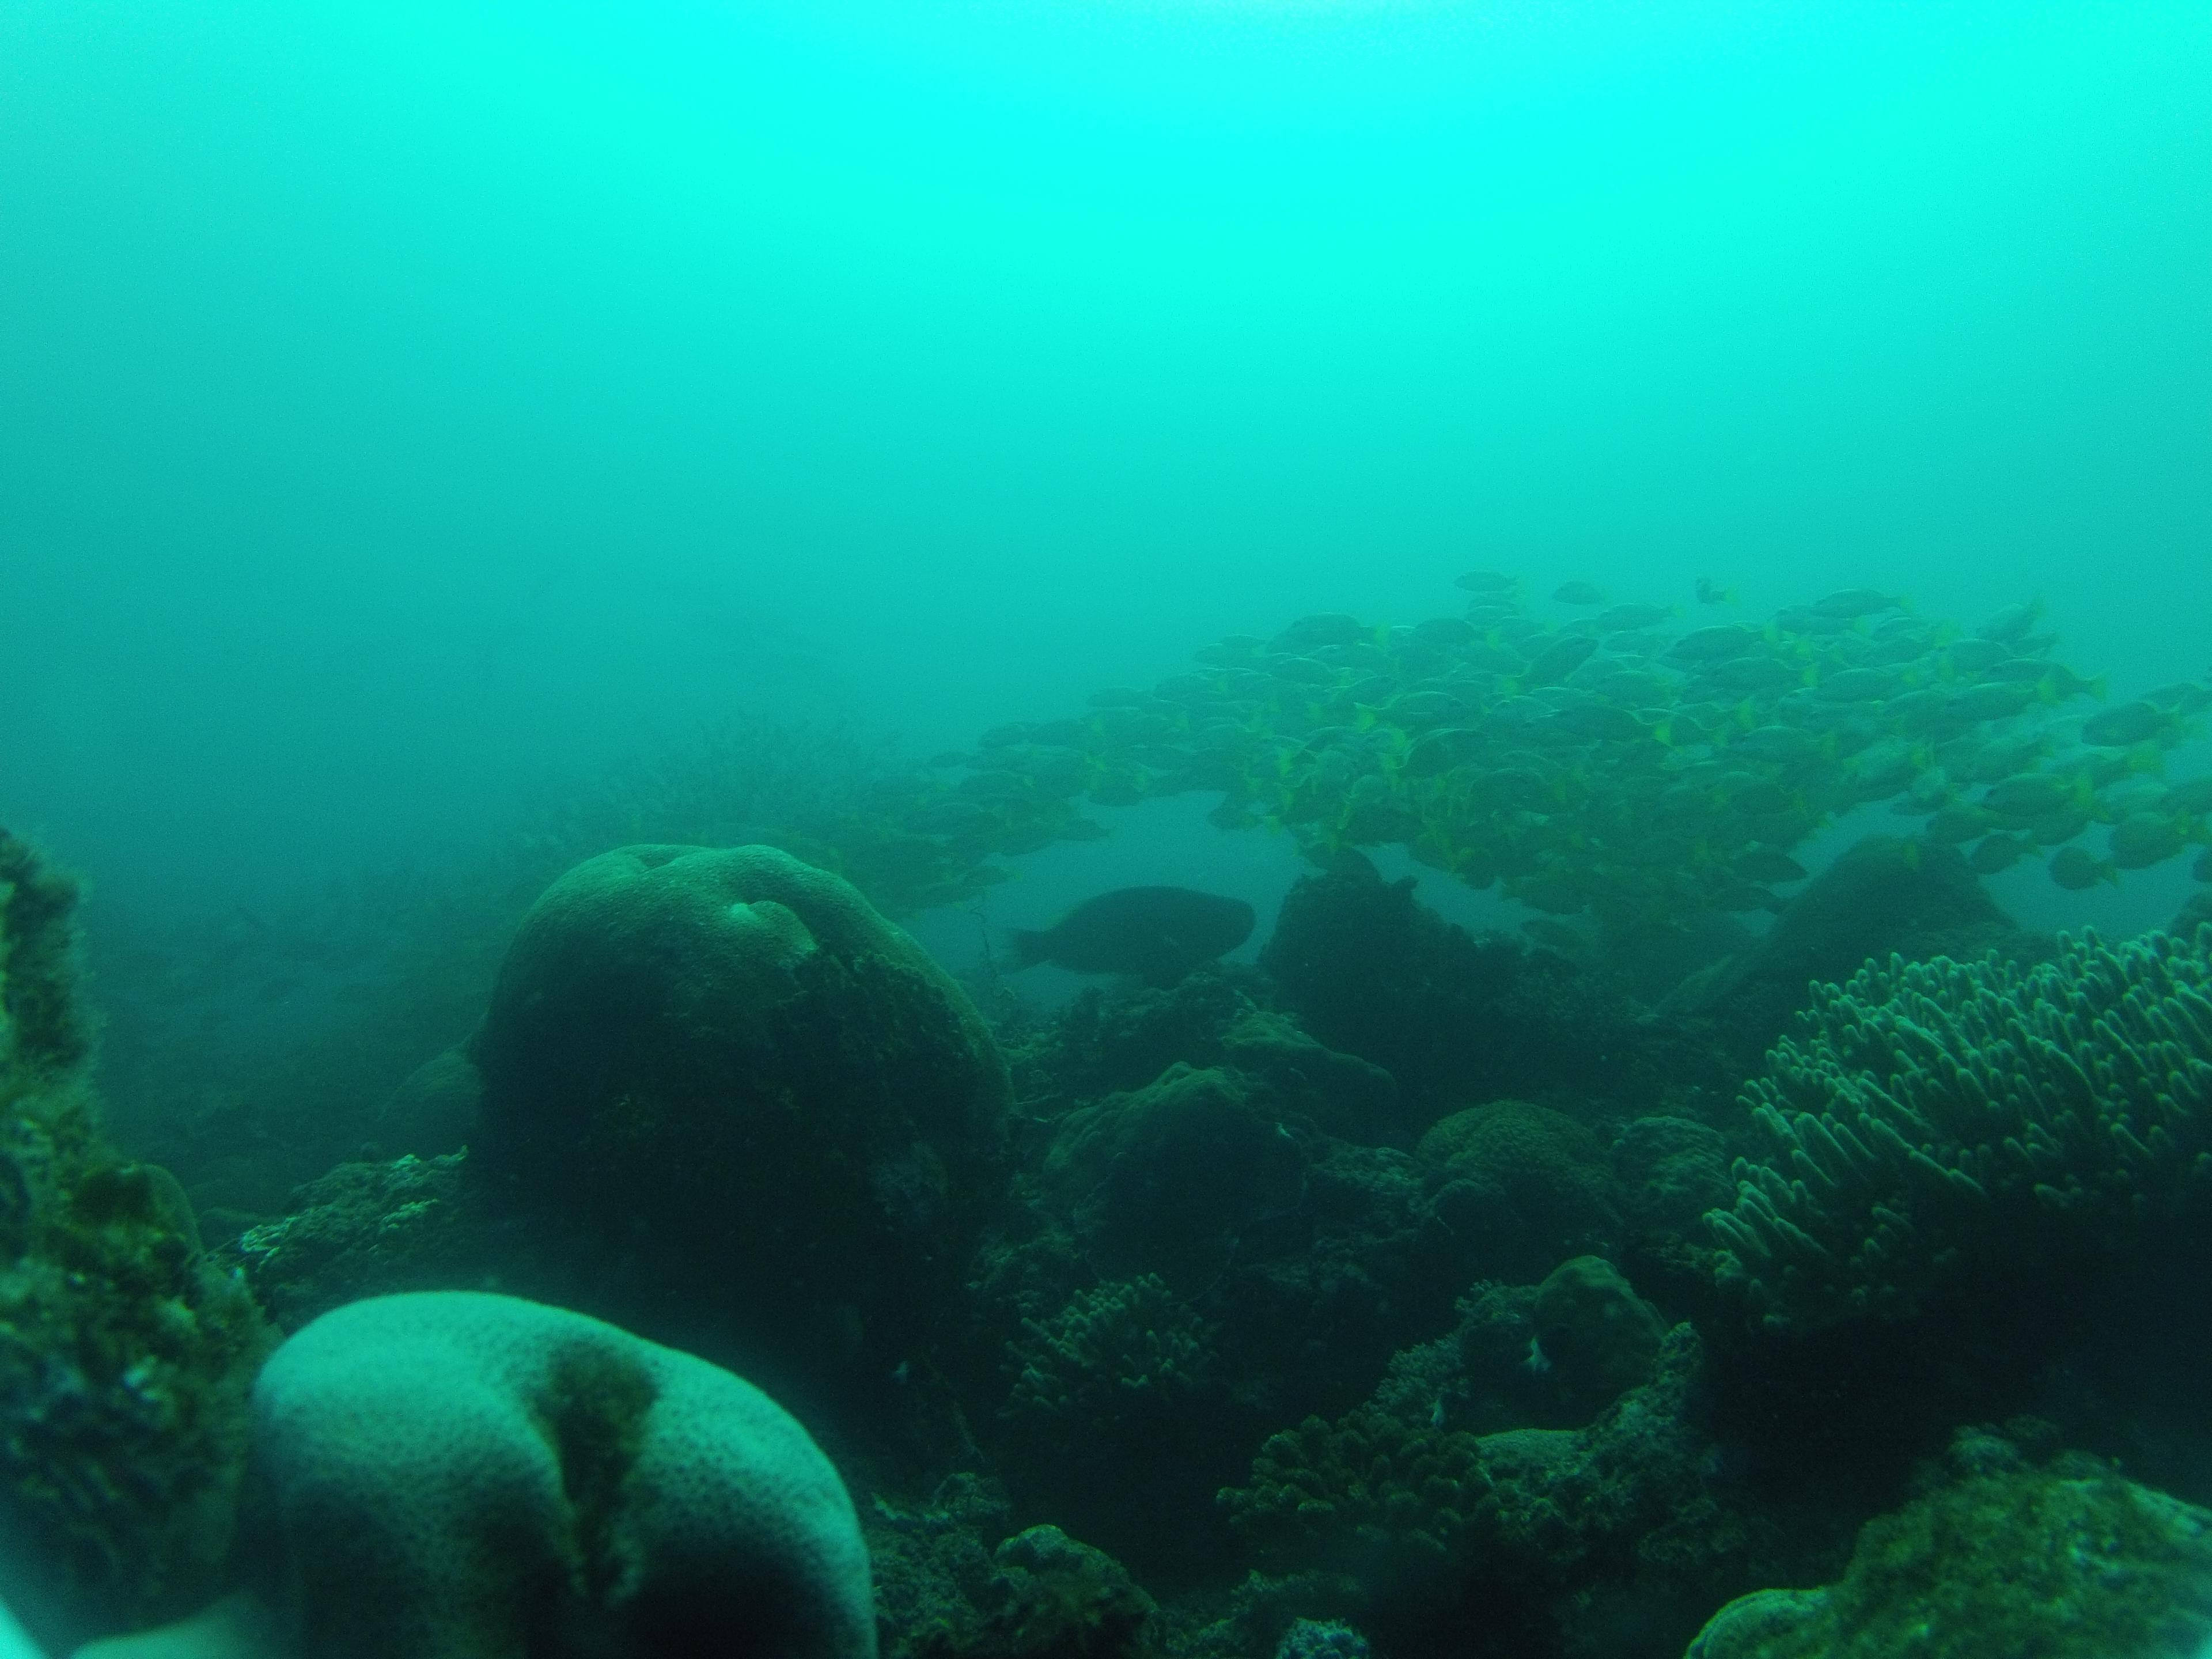Scarus rubroviolaceus: (975, 882, 1278, 1000)
